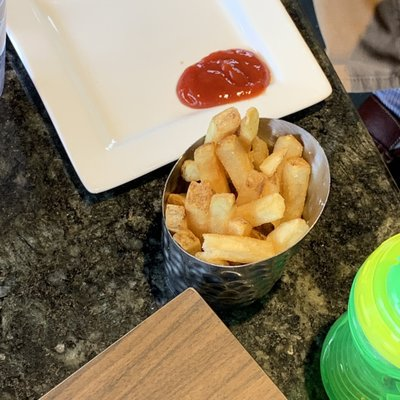sushi: (160, 106, 331, 315)
